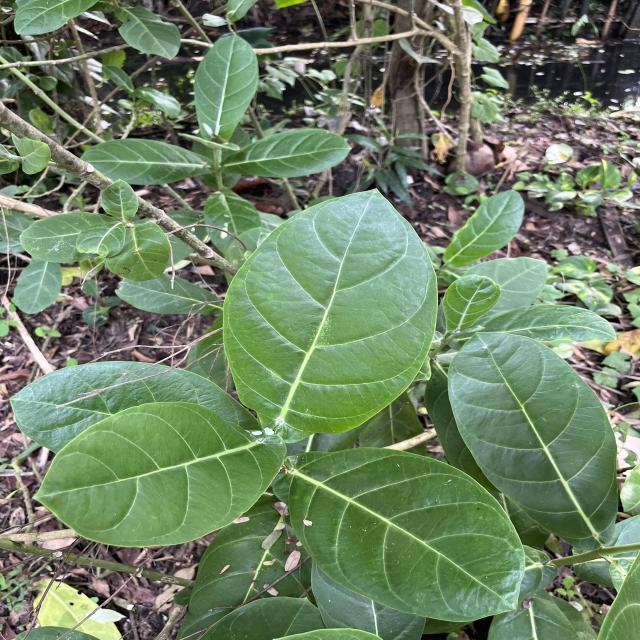Calotropis gigantea: (220, 184, 440, 438), (273, 443, 526, 624), (446, 328, 622, 552), (29, 401, 288, 548), (9, 358, 260, 454), (193, 32, 260, 143), (224, 126, 353, 180), (442, 188, 525, 270), (81, 137, 217, 186), (18, 210, 120, 264)
